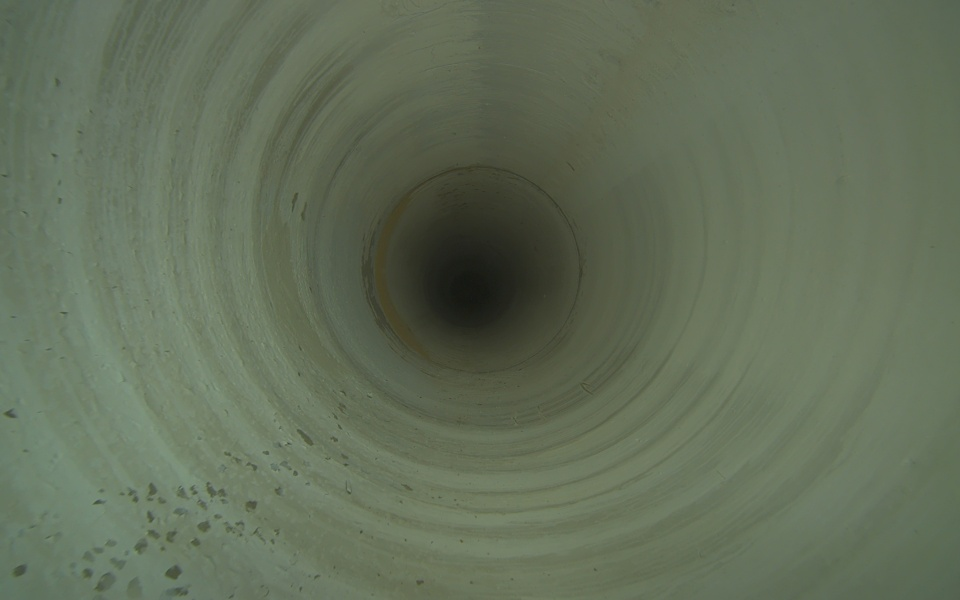circle1: (362, 164, 585, 380)
circle2: (453, 270, 487, 308)
